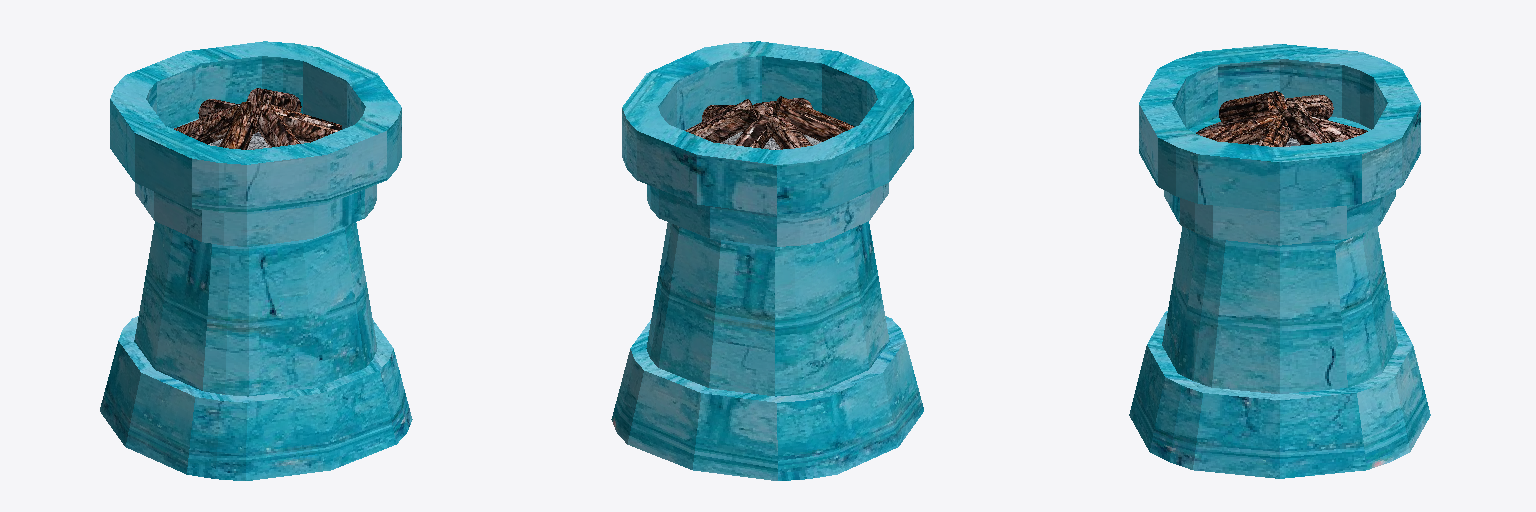
The picture shows the model from 3 angles: view 1: azimuth 30°, elevation 25°; view 2: azimuth 150°, elevation 25°; view 3: azimuth 270°, elevation 25°; orthographic projection.
Visible parts, largest first — view 1: Cilindro, Cilindro.005; view 2: Cilindro, Cilindro.005; view 3: Cilindro, Cilindro.005.
Part boxes in pixels (x1,y1,x2,y2): Cilindro: (100, 41, 412, 480); Cilindro.005: (174, 88, 341, 149); Cilindro: (611, 41, 923, 480); Cilindro.005: (685, 96, 854, 149); Cilindro: (1129, 44, 1430, 478); Cilindro.005: (1196, 91, 1367, 146).
Size of the model in its own units: 1.92 by 2.24 by 1.92.
3 materials, 3 textured.